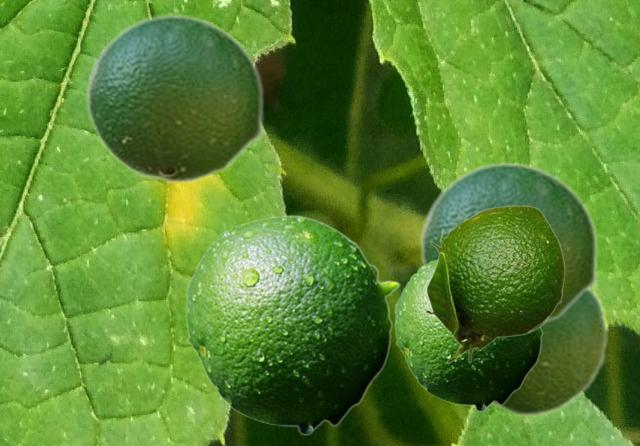dalandan: (185, 214, 399, 435), (85, 13, 264, 184), (419, 161, 598, 329), (394, 259, 543, 411), (424, 205, 564, 363), (489, 290, 608, 418)
